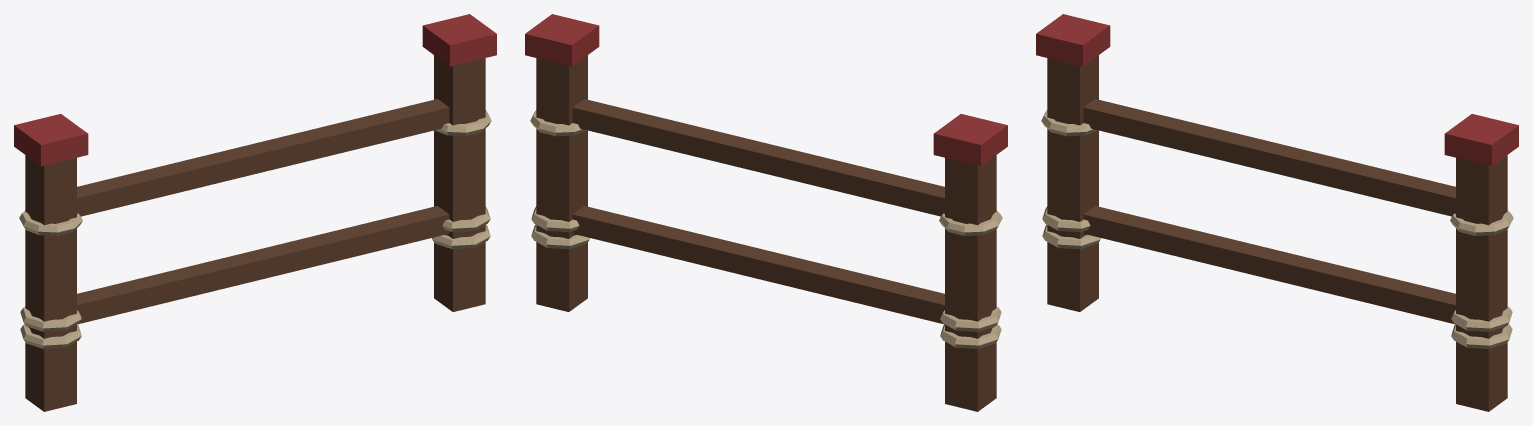
Rendered from PirateCove_FenceStraight_Standard.glb.
3 views of the same model, side by side, from view 1: azimuth 30°, elevation 25°; view 2: azimuth 150°, elevation 25°; view 3: azimuth 330°, elevation 25° (orthographic).
Visible parts, largest first — view 1: PirateCove_FenceStraight_Standard; view 2: PirateCove_FenceStraight_Standard; view 3: PirateCove_FenceStraight_Standard.
Part boxes in pixels (<box>): PirateCove_FenceStraight_Standard: <box>14,14,496,411</box>; PirateCove_FenceStraight_Standard: <box>525,14,1007,411</box>; PirateCove_FenceStraight_Standard: <box>1036,14,1518,411</box>.
Size of the model in its own units: 2.27 by 1.27 by 0.27.
